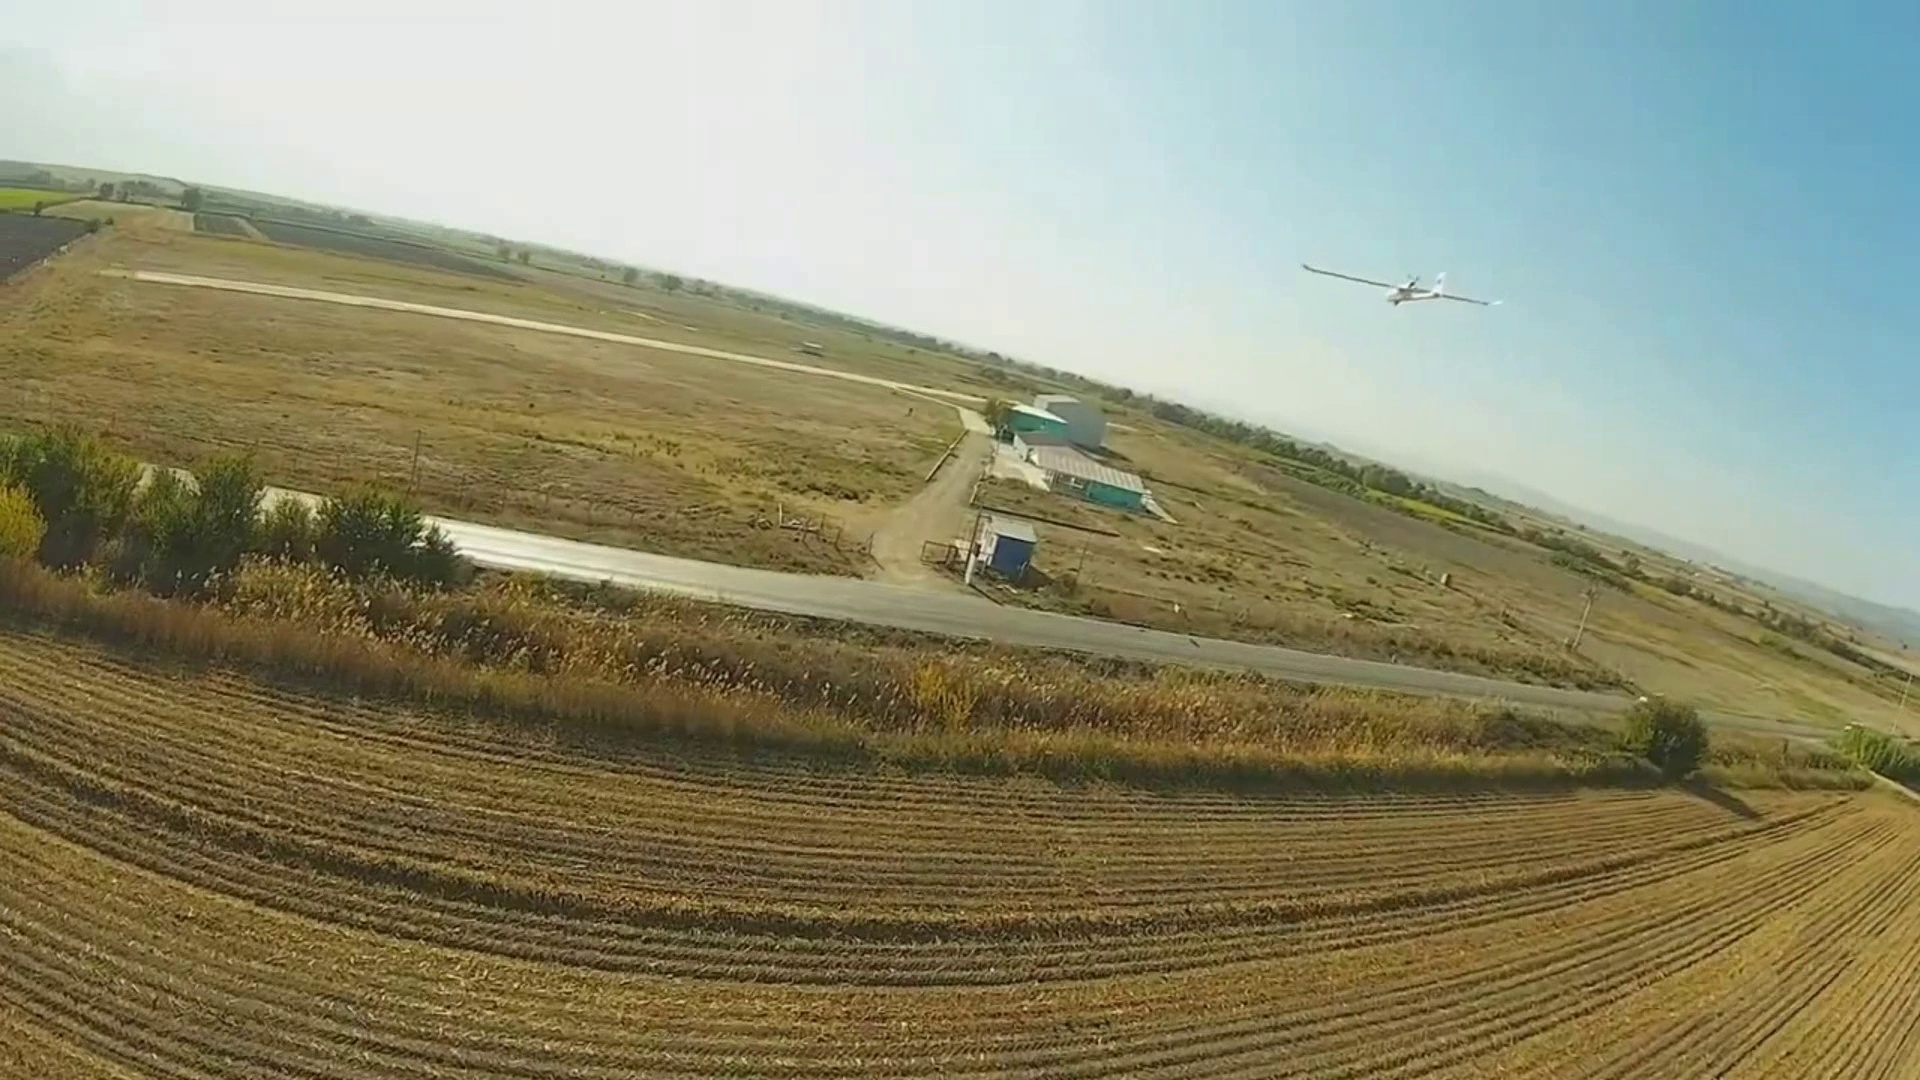airplane: (1300, 258, 1497, 310)
